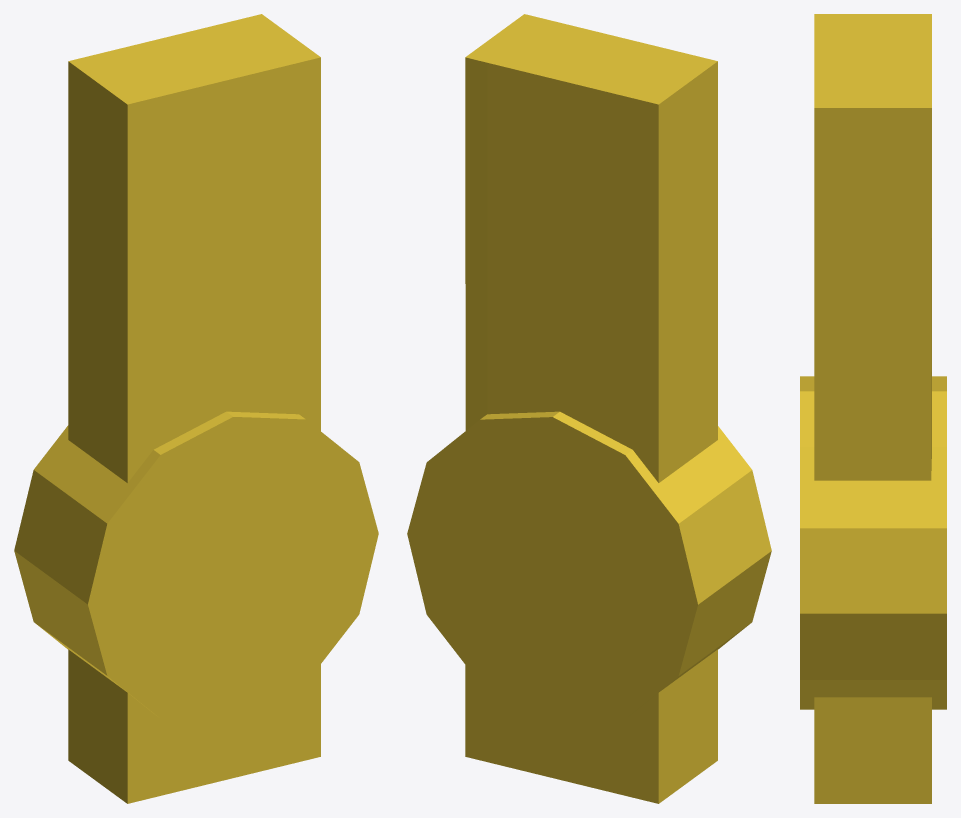
The model's file is Juguete_Amarillo.fbx.
The picture shows the model from 3 angles, left to right: view 1: azimuth 30°, elevation 25°; view 2: azimuth 150°, elevation 25°; view 3: azimuth 270°, elevation 25°; orthographic projection.
Parts seen in each view (by area): view 1: Juguete_4; view 2: Juguete_4; view 3: Juguete_4.
Part boxes in pixels (x1,y1,x2,y2): Juguete_4: (14,14,378,803); Juguete_4: (407,14,771,803); Juguete_4: (800,14,946,803).
Size of the model in its own units: 11.74 by 26.97 by 5.15.
